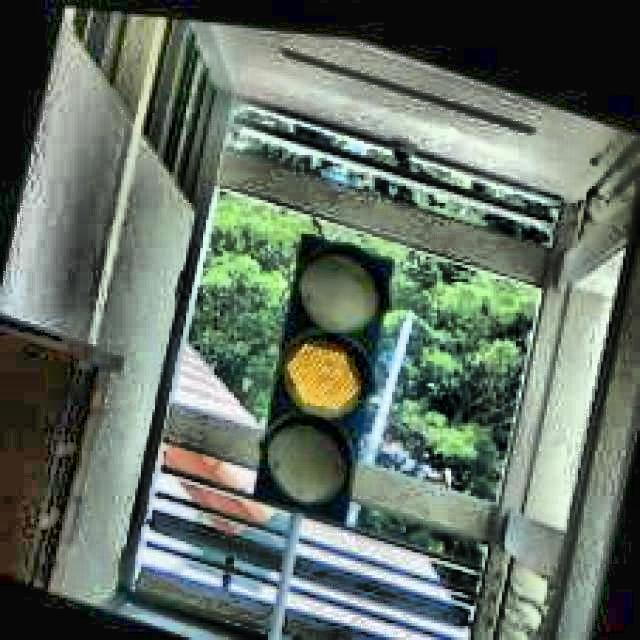yellow: (249, 234, 400, 527)
